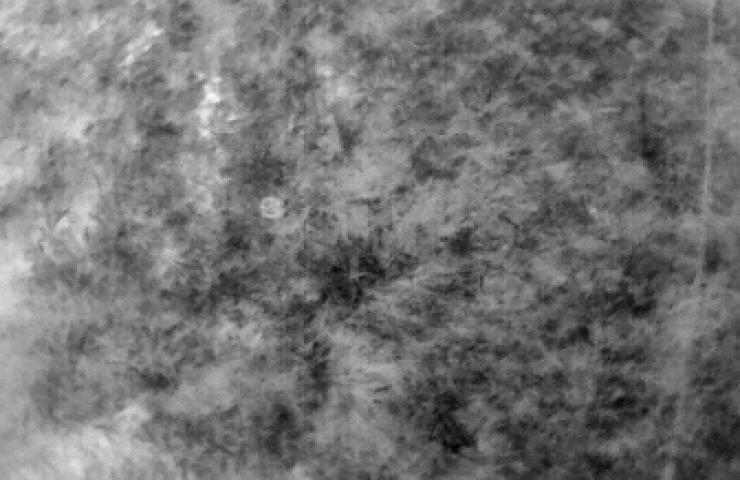landmines: (256, 193, 289, 224)
